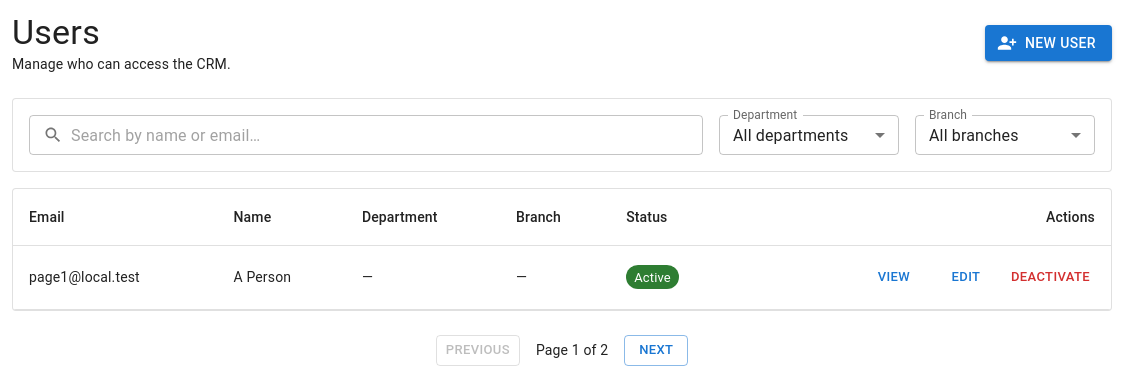
Test: UsersListPage › paginates using the Next and Previous buttons
Check: the text "page1@local.test" is shown, box top-left (13, 246), bottom-right (218, 309)
Check: the button "Previous" is disabled, box top-left (436, 335), bottom-right (520, 366)
Click the button "Next" at (656, 350), box top-left (624, 335), bottom-right (688, 366)
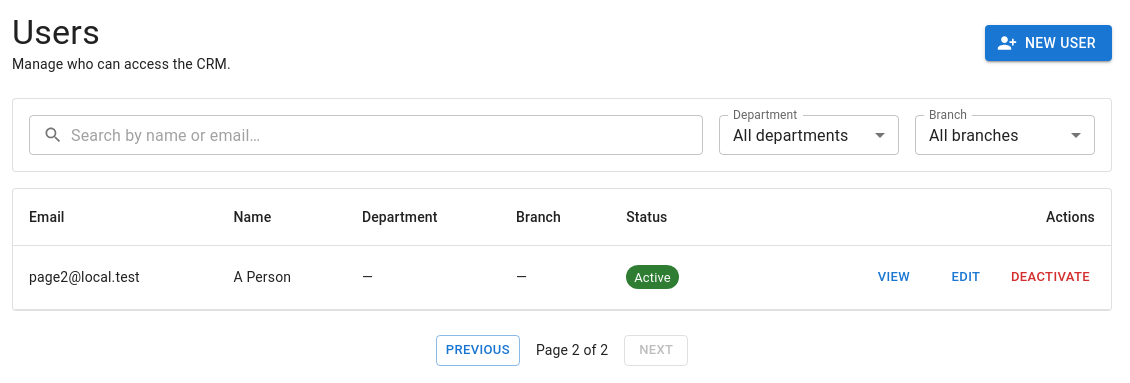
Check: the text "page2@local.test" is shown, box top-left (13, 246), bottom-right (218, 309)
Check: the button "Previous" is enabled, box top-left (436, 335), bottom-right (520, 366)
